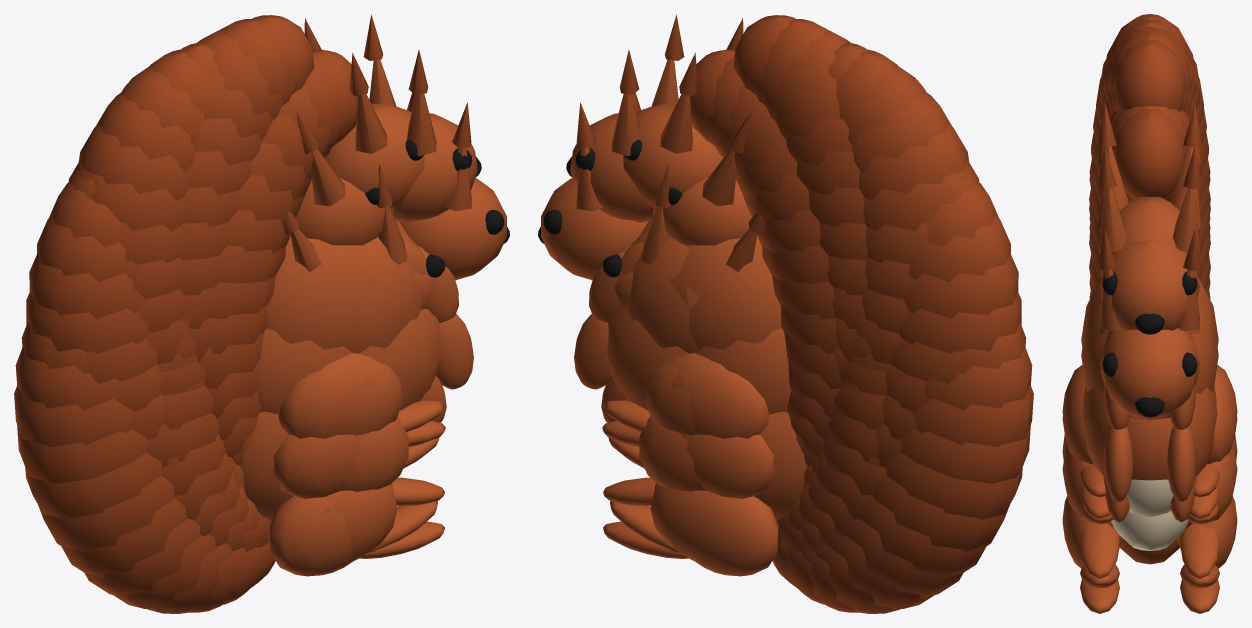
The model's file is veverka.glb.
The picture shows the model from 3 angles, left to right: view 1: azimuth 30°, elevation 25°; view 2: azimuth 150°, elevation 25°; view 3: azimuth 270°, elevation 25°; orthographic projection. The views are drawn at different scales.
Visible parts, largest first — view 1: veverka_telo_00, veverka_telo_02, veverka_telo_04, veverka_telo_03, veverka_telo_01, veverka_telo_05; view 2: veverka_telo_00, veverka_telo_02, veverka_telo_04, veverka_telo_03, veverka_telo_01, veverka_telo_05; view 3: veverka_telo_04, veverka_telo_03, veverka_telo_02, veverka_telo_05, veverka_telo_00, veverka_telo_01.
Boxes of the visible parts, x1,y1,x2,y2 form: veverka_telo_00: (14,211,437,613); veverka_telo_02: (68,18,443,438); veverka_telo_04: (206,49,509,505); veverka_telo_03: (179,14,481,446); veverka_telo_01: (26,113,439,498); veverka_telo_05: (161,163,446,560); veverka_telo_00: (610,211,1033,613); veverka_telo_02: (604,18,979,438); veverka_telo_04: (538,49,842,505); veverka_telo_03: (566,14,867,446); veverka_telo_01: (608,113,1021,498); veverka_telo_05: (601,163,886,560); veverka_telo_04: (1062,106,1237,578); veverka_telo_03: (1062,26,1237,518); veverka_telo_02: (1062,14,1237,497); veverka_telo_05: (1062,253,1237,613); veverka_telo_00: (1062,211,1237,588); veverka_telo_01: (1062,146,1237,524).
Bounding box in the file's own units: 0.4257 × 0.4788 × 0.14.
1 material, 1 textured.
